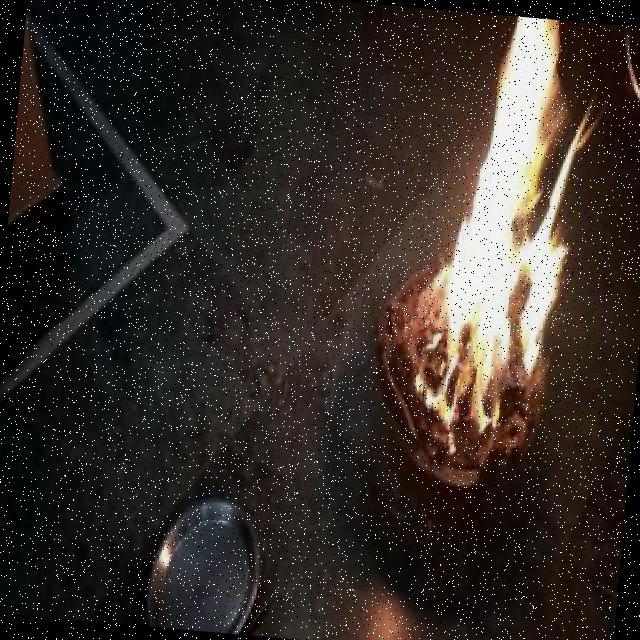Fire: (419, 12, 623, 398)
